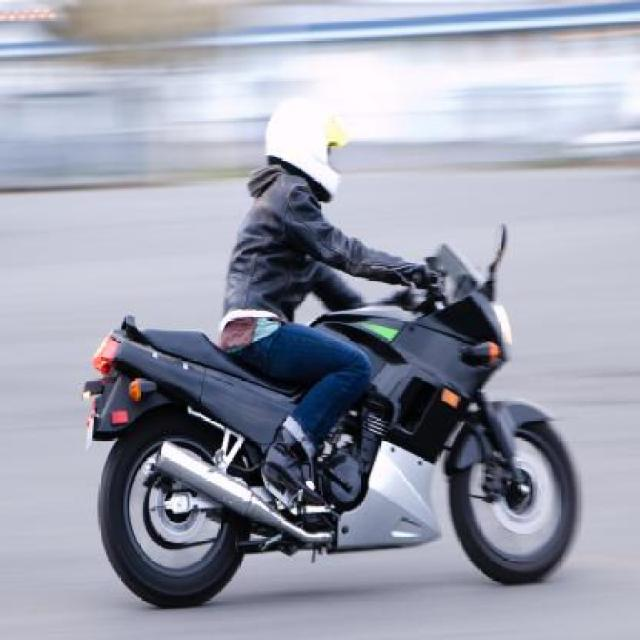Person: (216, 102, 418, 450)
